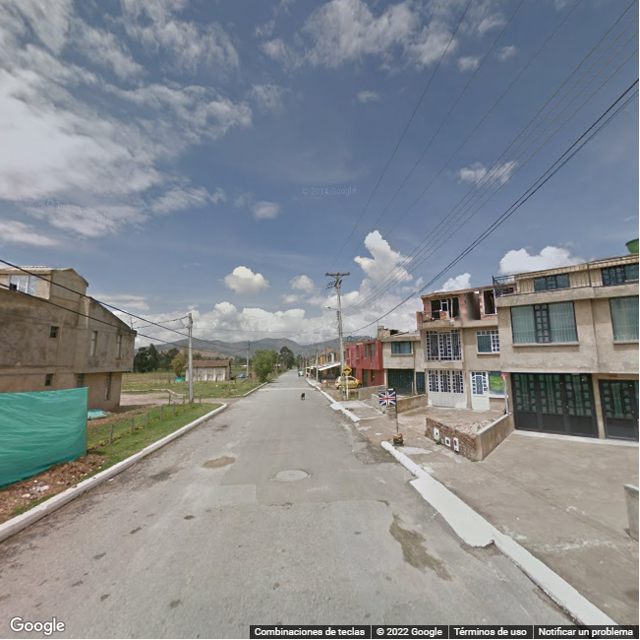D40: (197, 454, 238, 471)
